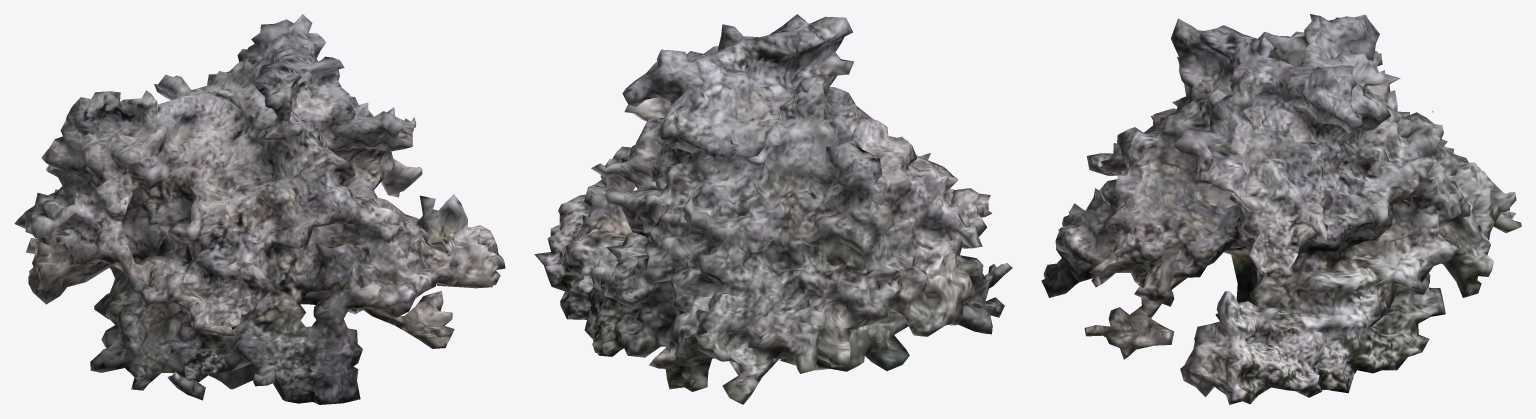
Rendered from ajimano-sakura-tree.glb.
The picture shows the model from 3 angles, left to right: view 1: azimuth 30°, elevation 25°; view 2: azimuth 150°, elevation 25°; view 3: azimuth 270°, elevation 25°; orthographic projection. The views are drawn at different scales.
Visible parts, largest first — view 1: baked_mesh; view 2: baked_mesh; view 3: baked_mesh.
Boxes of the visible parts, box(x1,y1,x2,y2) form: baked_mesh: box(14, 14, 505, 404); baked_mesh: box(534, 14, 1012, 404); baked_mesh: box(1041, 14, 1521, 404).
Bounding box in the file's own units: 0.4691 × 0.309 × 0.4322.
1 material, 1 textured.
